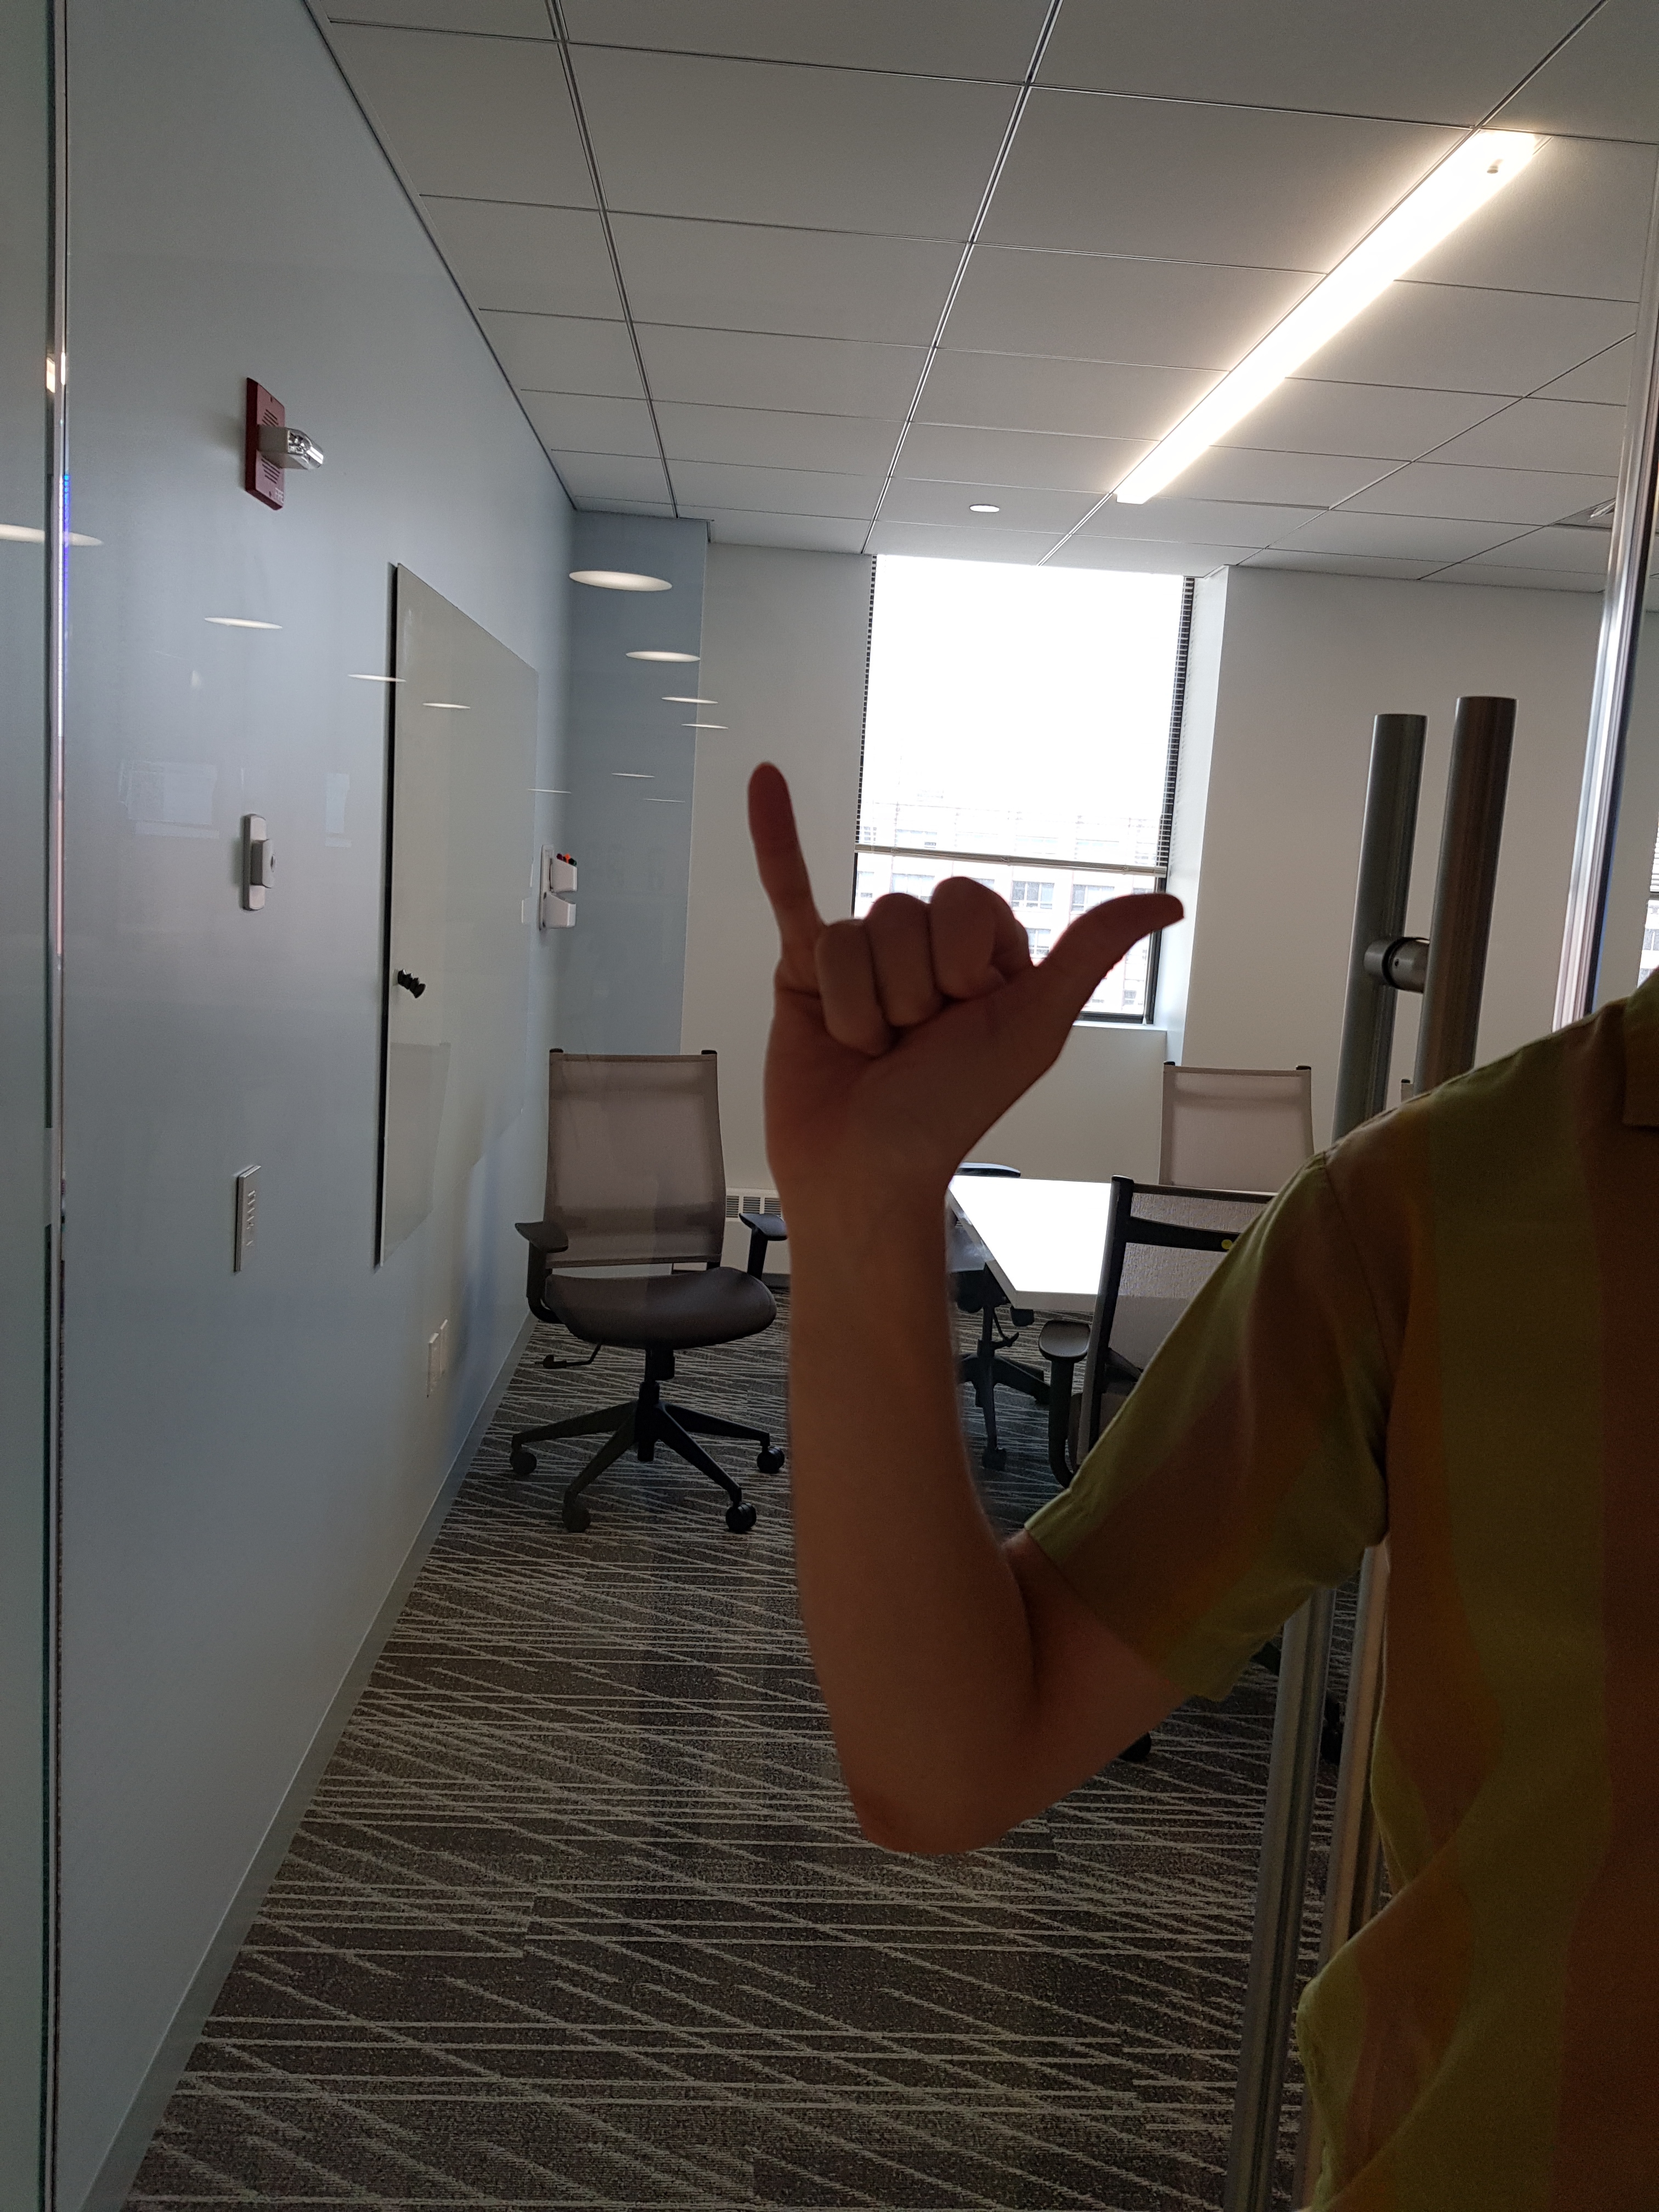y: (723, 740, 1199, 1219)
